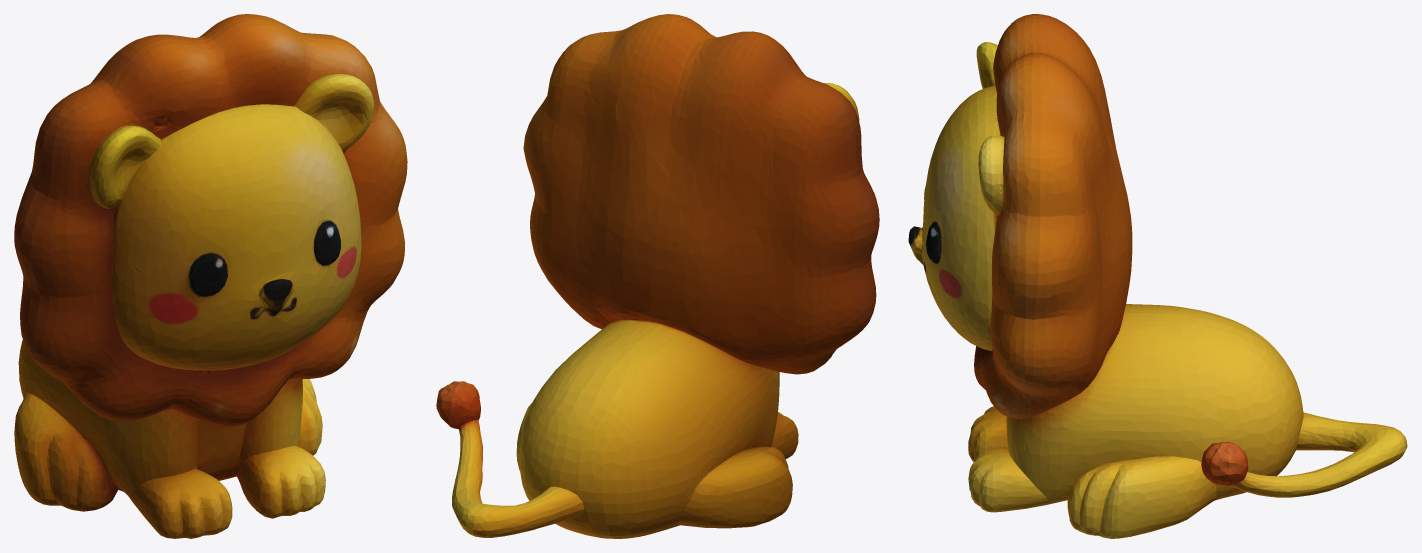
Rendered from lion.glb.
3 views of the same model, side by side, from view 1: azimuth 30°, elevation 25°; view 2: azimuth 150°, elevation 25°; view 3: azimuth 270°, elevation 25° (orthographic). The views are drawn at different scales.
Parts seen in each view (by area): view 1: geometry_0; view 2: geometry_0; view 3: geometry_0.
Part boxes in pixels (<box>): geometry_0: <box>14,14,407,538</box>; geometry_0: <box>436,14,879,538</box>; geometry_0: <box>908,14,1407,538</box>.
Size of the model in its own units: 0.7978 by 0.9652 by 0.994.
Materials: 1 (1 with a texture image).
